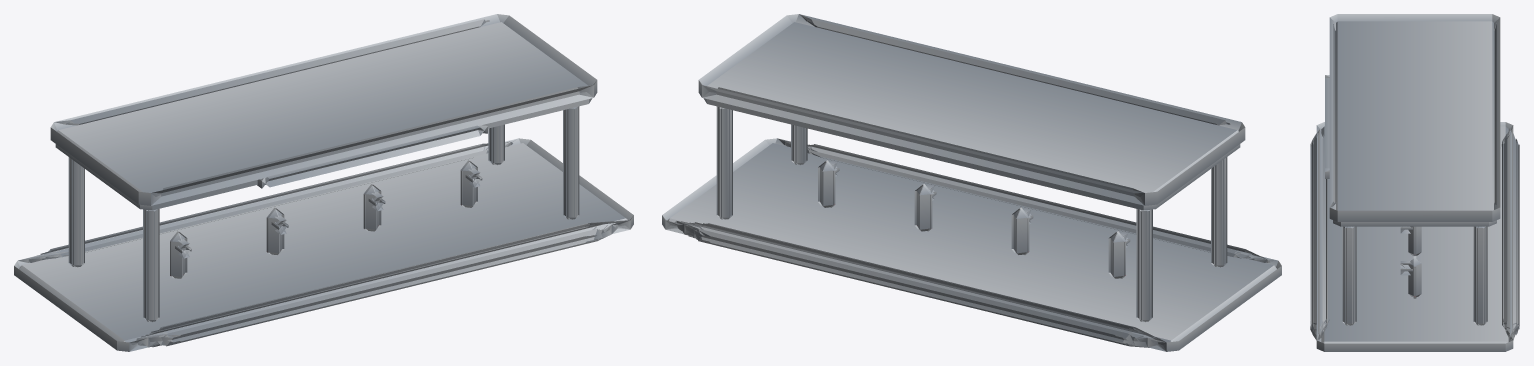
The model's file is dt_ev_charging_station.fbx.
The picture shows the model from 3 angles, left to right: view 1: azimuth 30°, elevation 25°; view 2: azimuth 150°, elevation 25°; view 3: azimuth 270°, elevation 25°; orthographic projection. The views are drawn at different scales.
Visible parts, largest first — view 1: dt_ev_charging_station; view 2: dt_ev_charging_station; view 3: dt_ev_charging_station.
Part boxes in pixels (box(x1,y1,x2,y2)): dt_ev_charging_station: box(14, 14, 633, 351); dt_ev_charging_station: box(662, 14, 1281, 351); dt_ev_charging_station: box(1310, 14, 1519, 351).
Bounding box in the file's own units: 3200 × 886 × 1278.
